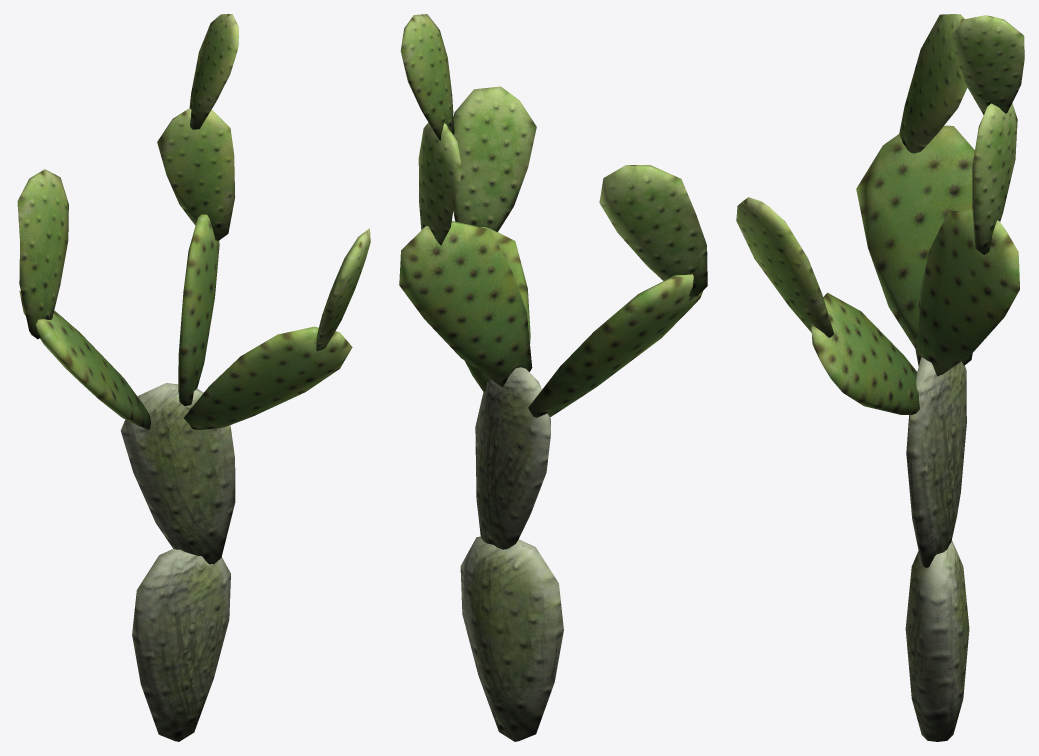
File: KaktusSeg.gltf
3 renders of one model, left to right at view 1: azimuth 30°, elevation 25°; view 2: azimuth 150°, elevation 25°; view 3: azimuth 270°, elevation 25°, orthographic. The views are drawn at different scales.
Visible parts, largest first — view 1: KaktusSeg; view 2: KaktusSeg; view 3: KaktusSeg.
Part boxes in pixels (x1,y1,x2,y2): KaktusSeg: (17, 14, 370, 741); KaktusSeg: (399, 14, 707, 741); KaktusSeg: (736, 14, 1024, 741).
Size of the model in its own units: 1.89 by 4.23 by 1.44.
Materials: 1 (1 with a texture image).
